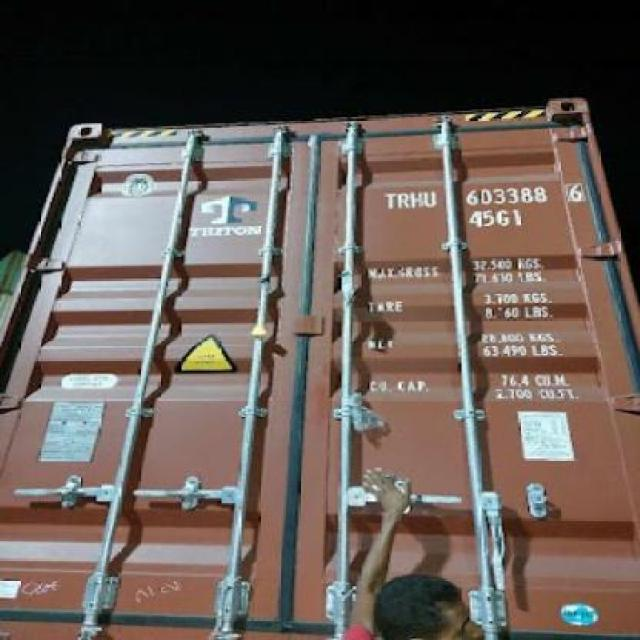ISO: (467, 208, 524, 228)
container_number: (383, 180, 582, 208)
